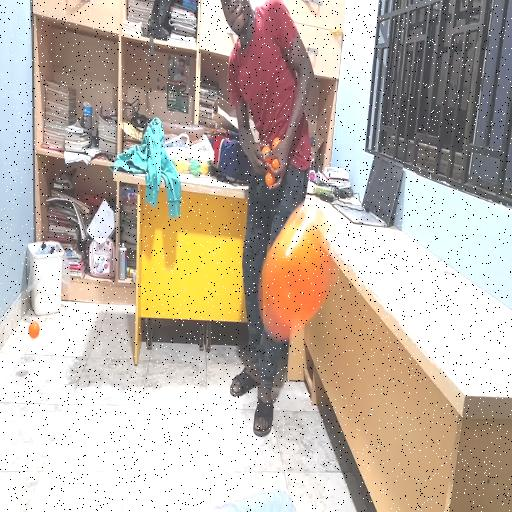plastic-ball: (260, 204, 335, 340)
